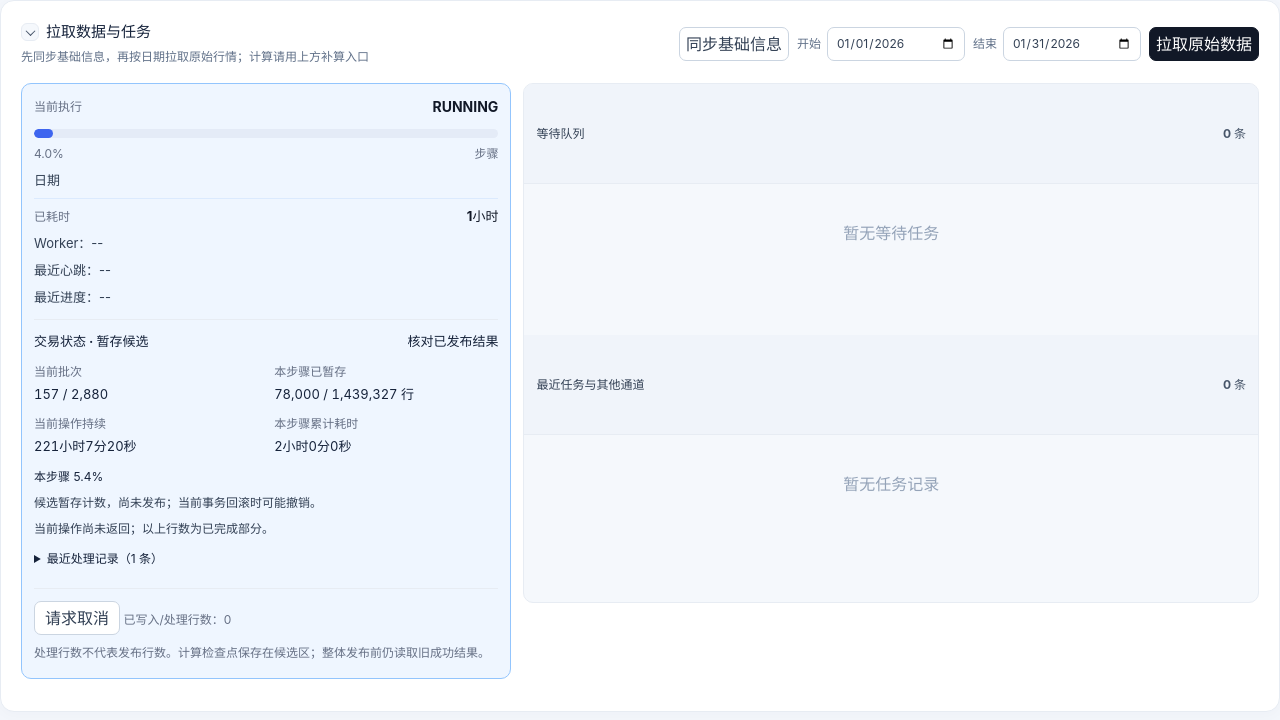
it: shows in-flight batches separately from committed stage counts and publication
Expected: the element named "阶段内进度" shows "157 / 2,880", x1=34 y1=386 x2=108 y2=402
Expected: the element named "阶段内进度" shows "78,000 / 1,439,327 行", x1=34 y1=319 x2=498 y2=589
Click the heading "最近处理记录（1 条）" at (105, 559), box x1=47 y1=551 x2=163 y2=566
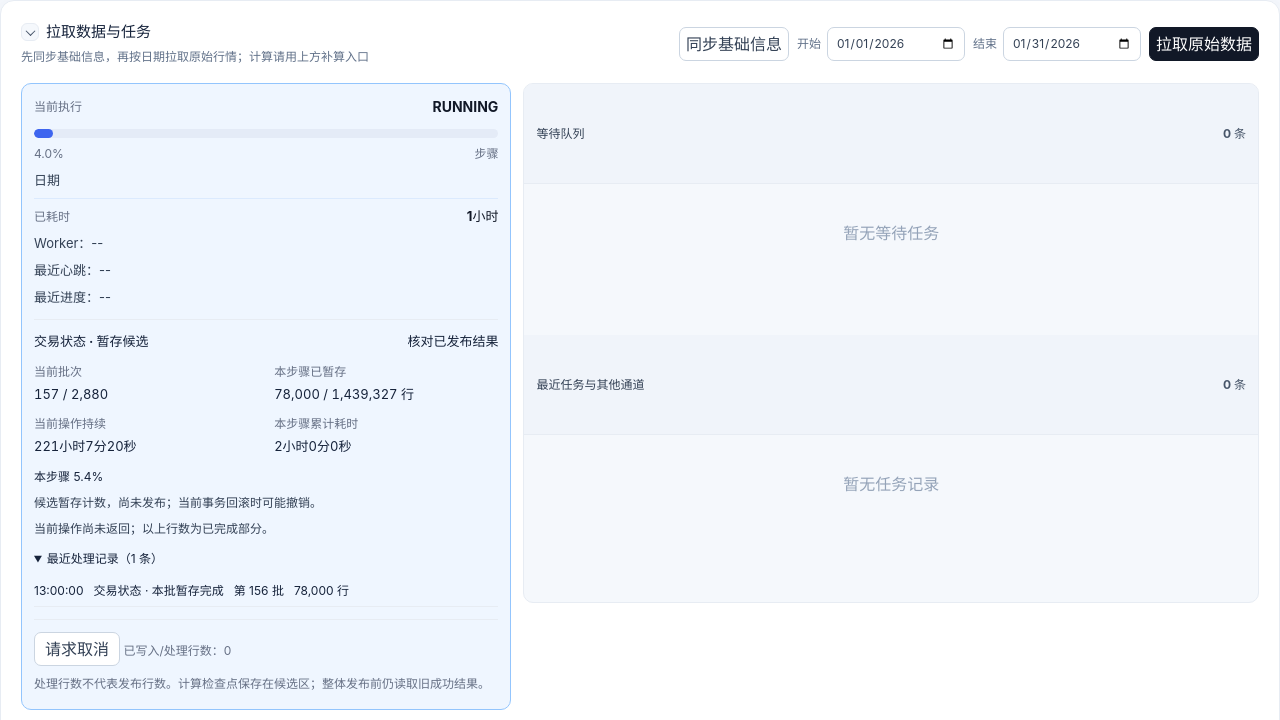
Result: the list shows "第 156 批" at x1=234 y1=583 x2=284 y2=598
